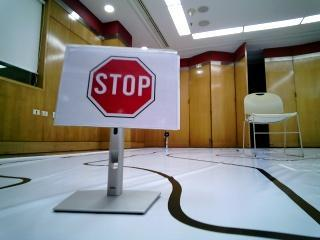stop: (73, 50, 162, 120)
